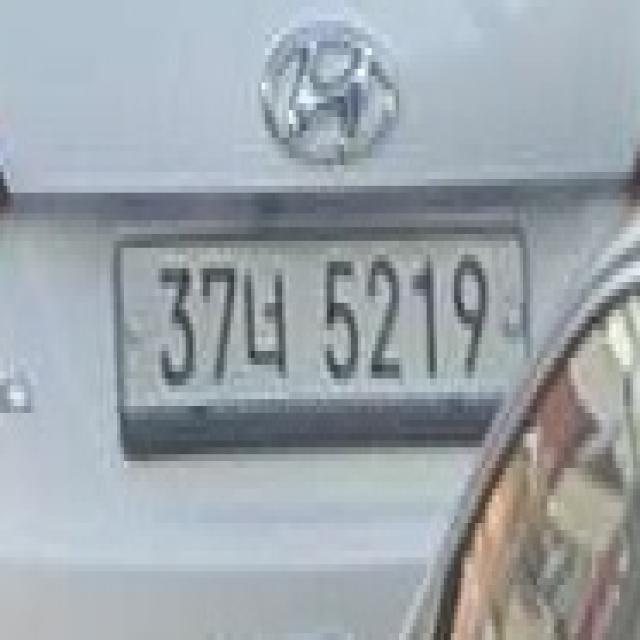plat: (111, 224, 534, 458)
